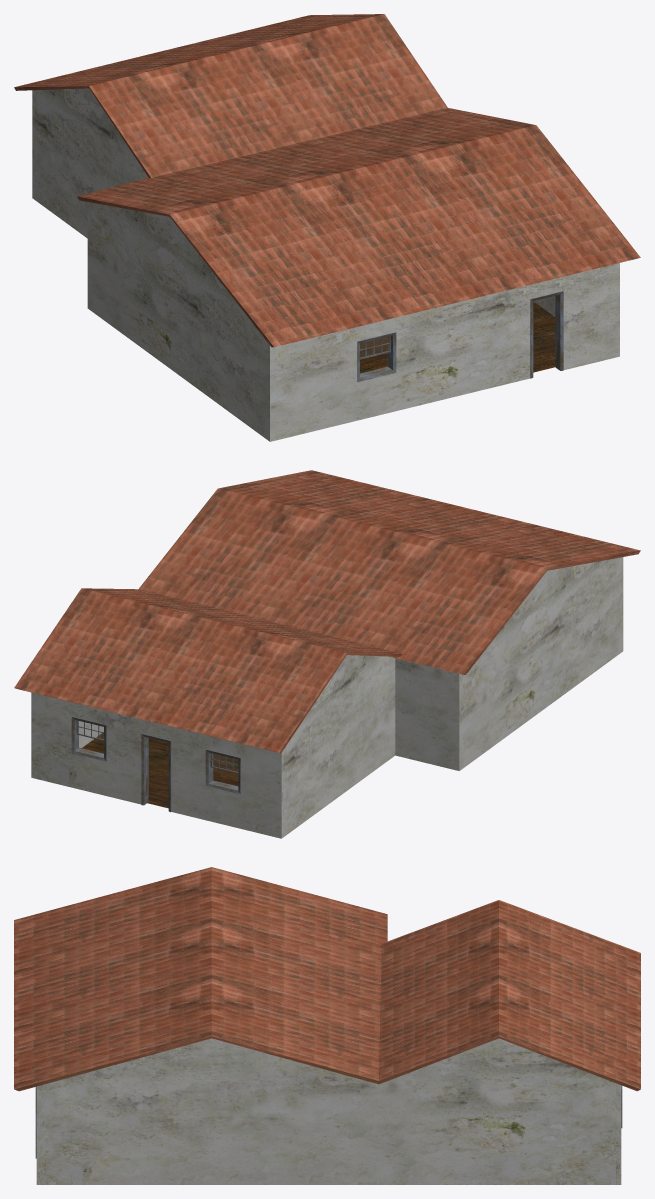
File: unfinished_house.glb
3 renders of one model, top to bottom at view 1: azimuth 30°, elevation 25°; view 2: azimuth 150°, elevation 25°; view 3: azimuth 270°, elevation 25°, orthographic. The views are drawn at different scales.
Parts seen in each view (by area): view 1: Plane.199; view 2: Plane.199; view 3: Plane.199.
Boxes of the visible parts, x1,y1,x2,y2 form: Plane.199: [14, 14, 640, 441]; Plane.199: [14, 470, 640, 838]; Plane.199: [14, 867, 640, 1184].
Bounding box in the file's own units: 10.5 × 4.42 × 16.44.
Materials: 5 (4 with a texture image).
